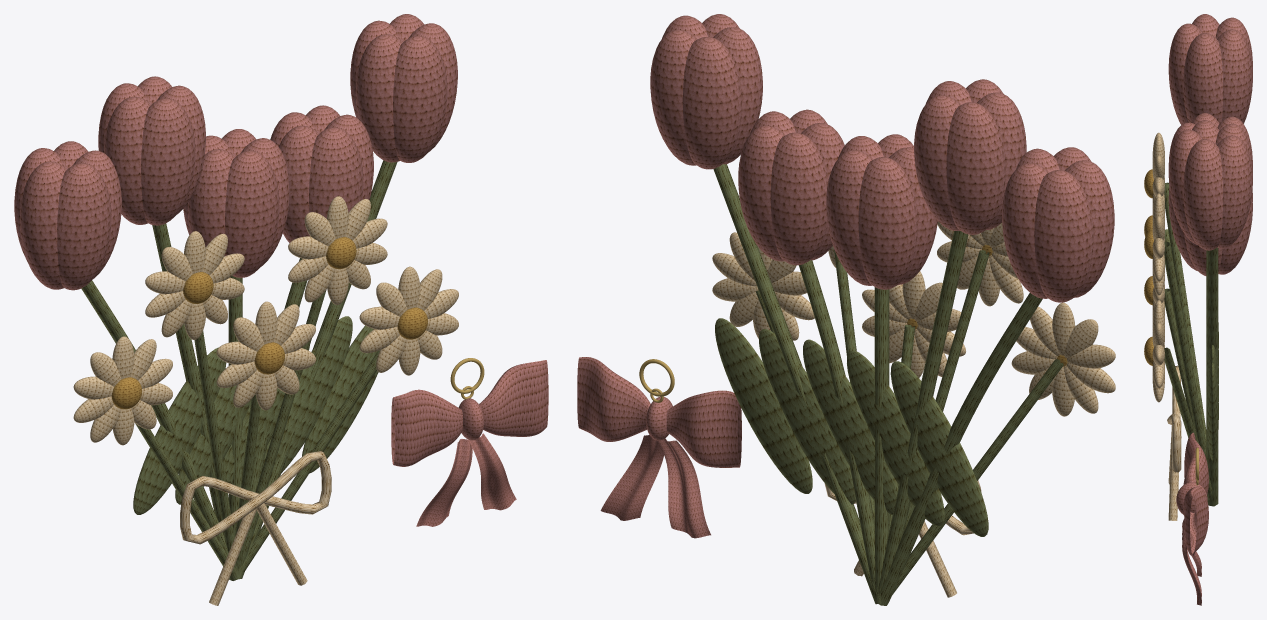
3 renders of one model, left to right at view 1: azimuth 30°, elevation 25°; view 2: azimuth 150°, elevation 25°; view 3: azimuth 270°, elevation 25°, orthographic. The views are drawn at different scales.
Bounding box in the file's own units: 2.89 × 2.73 × 0.6058.
Materials: 16 (15 with a texture image).
